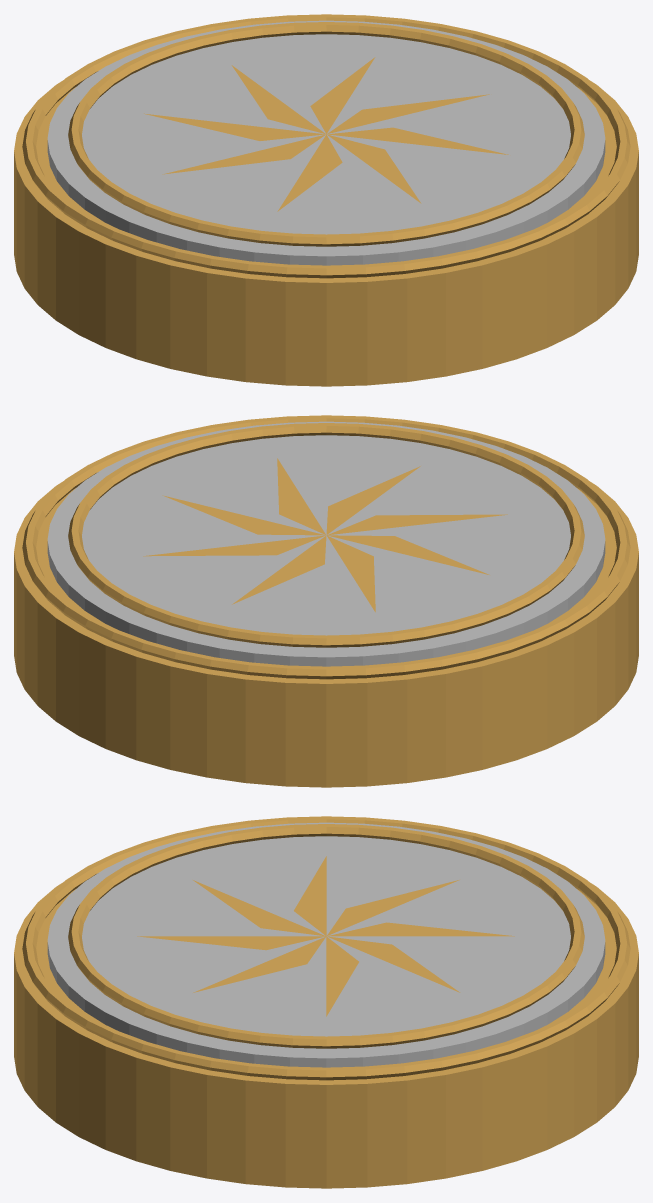
Rendered from checker.glb.
3 renders of one model, top to bottom at view 1: azimuth 30°, elevation 25°; view 2: azimuth 150°, elevation 25°; view 3: azimuth 270°, elevation 25°, orthographic.
Parts seen in each view (by area): view 1: Checker • enamel, Checker • gold, Torus, Torus.001, Rose des vents.007, Rose des vents.003, Rose des vents.004, Rose des vents, Rose des vents.006, Rose des vents.002, Rose des vents.005, Rose des vents.001; view 2: Checker • enamel, Checker • gold, Torus, Torus.001, Rose des vents.005, Rose des vents.004, Rose des vents.001, Rose des vents, Rose des vents.006, Rose des vents.002, Rose des vents.003, Rose des vents.007; view 3: Checker • enamel, Checker • gold, Torus, Torus.001, Rose des vents.002, Rose des vents.006, Rose des vents.007, Rose des vents.003, Rose des vents.001, Rose des vents.005, Rose des vents, Rose des vents.004.
Part boxes in pixels (<box>): Checker • enamel: <box>47,20,605,265</box>; Checker • gold: <box>14,81,638,386</box>; Torus: <box>22,14,630,278</box>; Torus.001: <box>68,22,584,246</box>; Rose des vents.007: <box>328,127,508,154</box>; Rose des vents.003: <box>144,113,324,140</box>; Rose des vents.004: <box>162,134,325,174</box>; Rose des vents: <box>327,94,489,133</box>; Rose des vents.006: <box>327,134,421,203</box>; Rose des vents.002: <box>231,65,325,133</box>; Rose des vents.005: <box>277,134,342,211</box>; Rose des vents.001: <box>310,57,375,133</box>; Checker • enamel: <box>47,421,605,666</box>; Checker • gold: <box>14,482,638,787</box>; Torus: <box>22,415,630,679</box>; Torus.001: <box>68,423,584,647</box>; Rose des vents.005: <box>327,514,507,535</box>; Rose des vents.004: <box>327,535,489,574</box>; Rose des vents.001: <box>143,535,325,556</box>; Rose des vents: <box>162,495,325,535</box>; Rose des vents.006: <box>326,466,420,534</box>; Rose des vents.002: <box>232,536,326,604</box>; Rose des vents.003: <box>327,535,375,612</box>; Rose des vents.007: <box>277,458,325,534</box>; Checker • enamel: <box>47,822,605,1067</box>; Checker • gold: <box>14,883,638,1188</box>; Torus: <box>22,816,630,1080</box>; Torus.001: <box>68,824,584,1048</box>; Rose des vents.002: <box>327,922,514,936</box>; Rose des vents.006: <box>137,936,325,950</box>; Rose des vents.007: <box>193,936,325,992</box>; Rose des vents.003: <box>327,880,459,935</box>; Rose des vents.001: <box>327,936,460,992</box>; Rose des vents.005: <box>193,880,325,936</box>; Rose des vents: <box>326,936,358,1016</box>; Rose des vents.004: <box>294,856,326,935</box>.
Size of the model in its own units: 0.82 by 0.1898 by 0.82.
